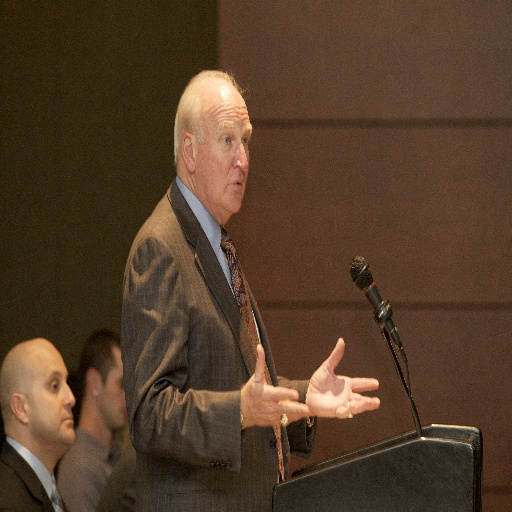hand: (304, 334, 381, 421), (240, 338, 312, 428)
